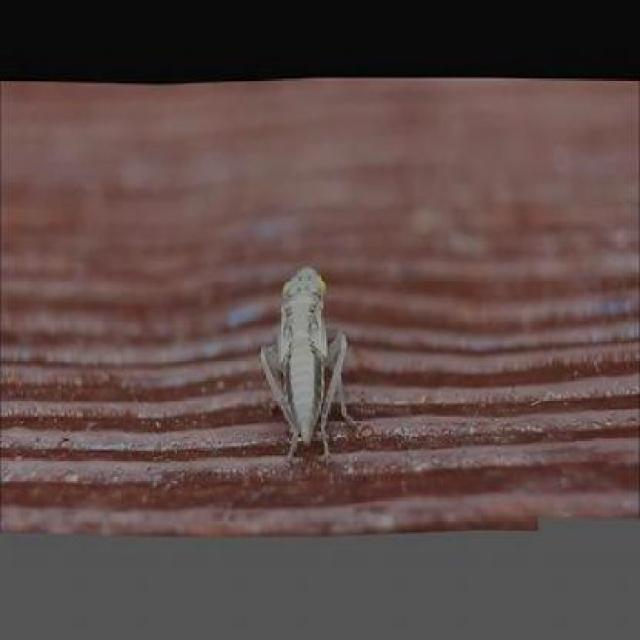green-leafhopper: (260, 258, 363, 462)
